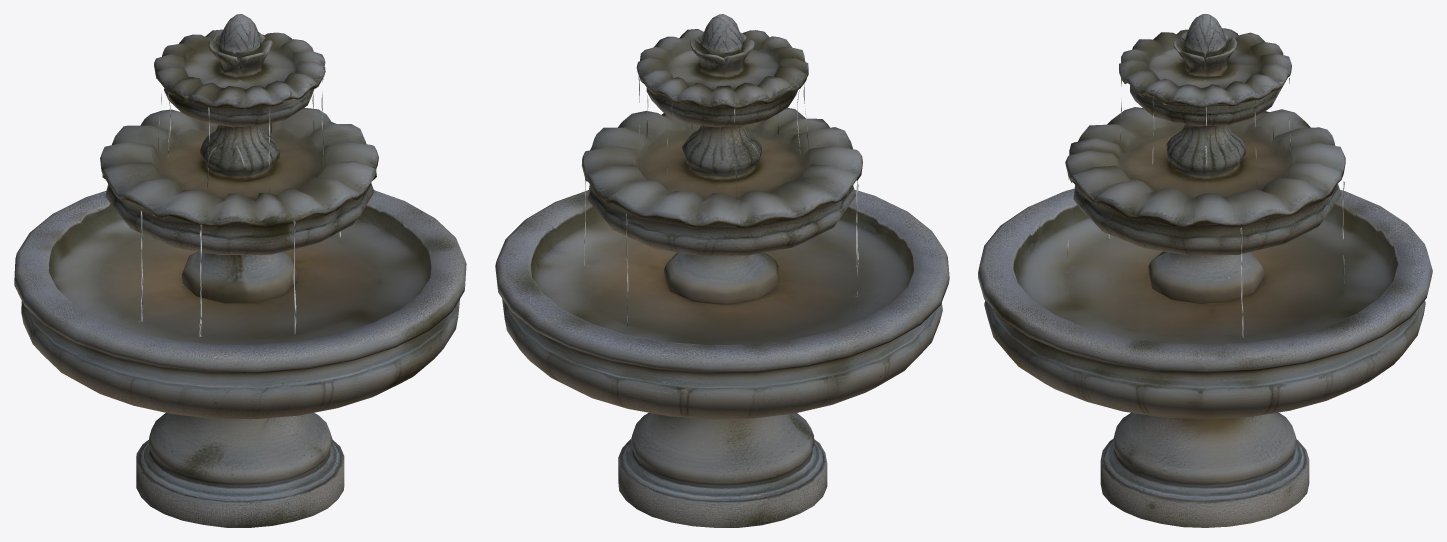
3 renders of one model, left to right at view 1: azimuth 30°, elevation 25°; view 2: azimuth 150°, elevation 25°; view 3: azimuth 270°, elevation 25°, orthographic.
Parts seen in each view (by area): view 1: tripo_node_8f2b3c86-0a9a-4884-93a5-0388e1cae249; view 2: tripo_node_8f2b3c86-0a9a-4884-93a5-0388e1cae249; view 3: tripo_node_8f2b3c86-0a9a-4884-93a5-0388e1cae249.
Part boxes in pixels (box(x1,y1,x2,y2)): tripo_node_8f2b3c86-0a9a-4884-93a5-0388e1cae249: box(14, 14, 466, 527); tripo_node_8f2b3c86-0a9a-4884-93a5-0388e1cae249: box(495, 14, 949, 527); tripo_node_8f2b3c86-0a9a-4884-93a5-0388e1cae249: box(978, 14, 1432, 527).
Size of the model in its own units: 0.877 by 0.998 by 0.877.
Materials: 1 (1 with a texture image).
